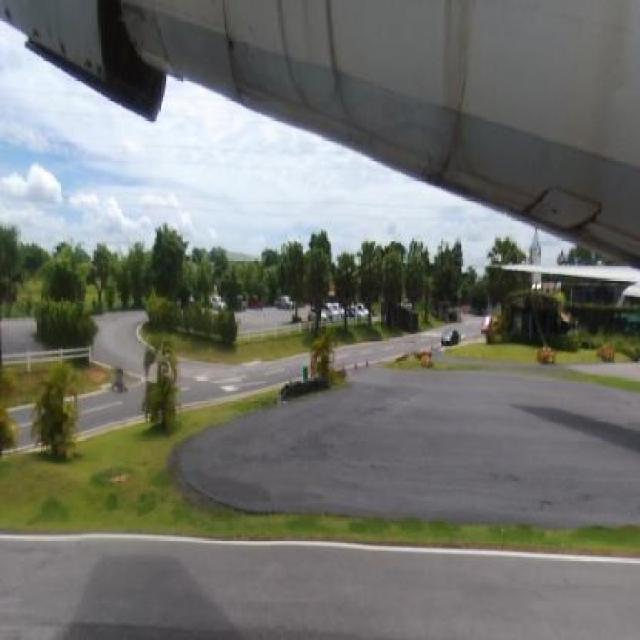Rust: (264, 3, 362, 132), (432, 0, 492, 191), (122, 1, 158, 70), (564, 203, 602, 262), (522, 177, 549, 238), (216, 23, 244, 80), (82, 53, 111, 95), (24, 20, 50, 48), (55, 37, 73, 66), (1, 4, 16, 31)
